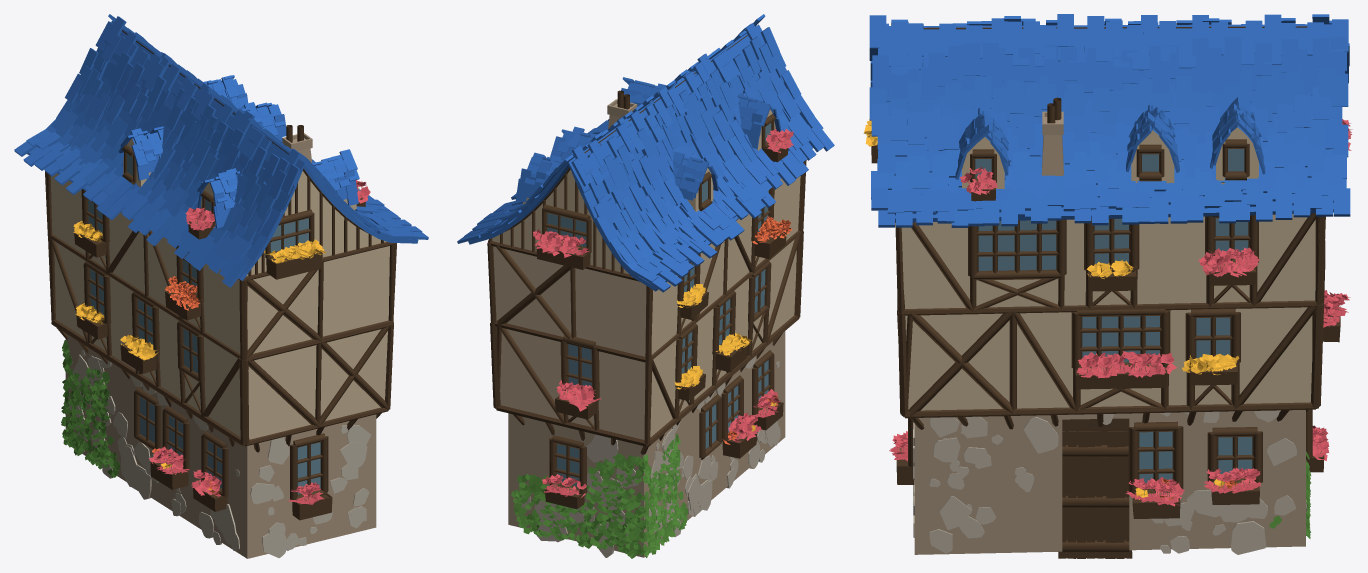
File: house3.glb
The picture shows the model from 3 angles, left to right: view 1: azimuth 30°, elevation 25°; view 2: azimuth 150°, elevation 25°; view 3: azimuth 270°, elevation 25°; orthographic projection. The views are drawn at different scales.
Visible parts, largest first — view 1: MedievalBuilding; view 2: MedievalBuilding; view 3: MedievalBuilding.
Boxes of the visible parts, <box> form: MedievalBuilding: <box>14,14,428,558</box>; MedievalBuilding: <box>457,14,834,558</box>; MedievalBuilding: <box>863,14,1352,558</box>.
Size of the model in its own units: 4.66 by 8.31 by 7.33.
